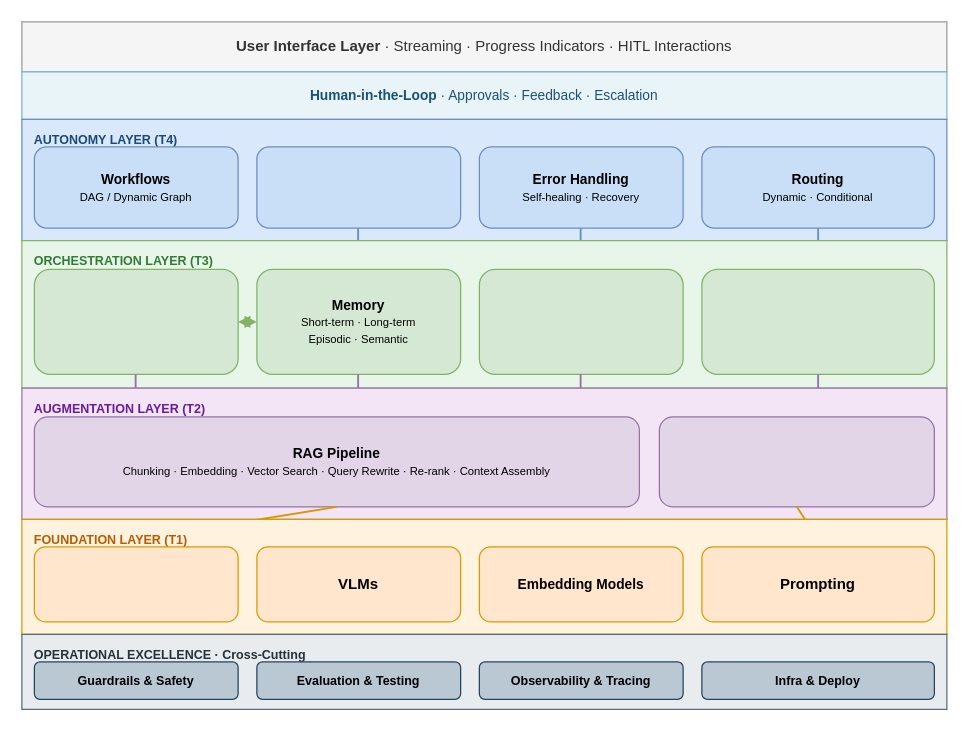
The diagram is 969 pixels wide and 731 high, and some of its shapes have lost their labels. Each missing label, with the centre of its shape:
Agents ReAct · Plan-Execute Reflexion: [135,321]
LLMs: [135,584]
Reasoning CoT · Tree of Thoughts Planning: [817,321]
State Management Checkpoint / Resume: [358,187]
Structured Output Schema · Validation Multi-artifact: [796,461]
Tools Functions · MCP Code Execution: [580,321]
